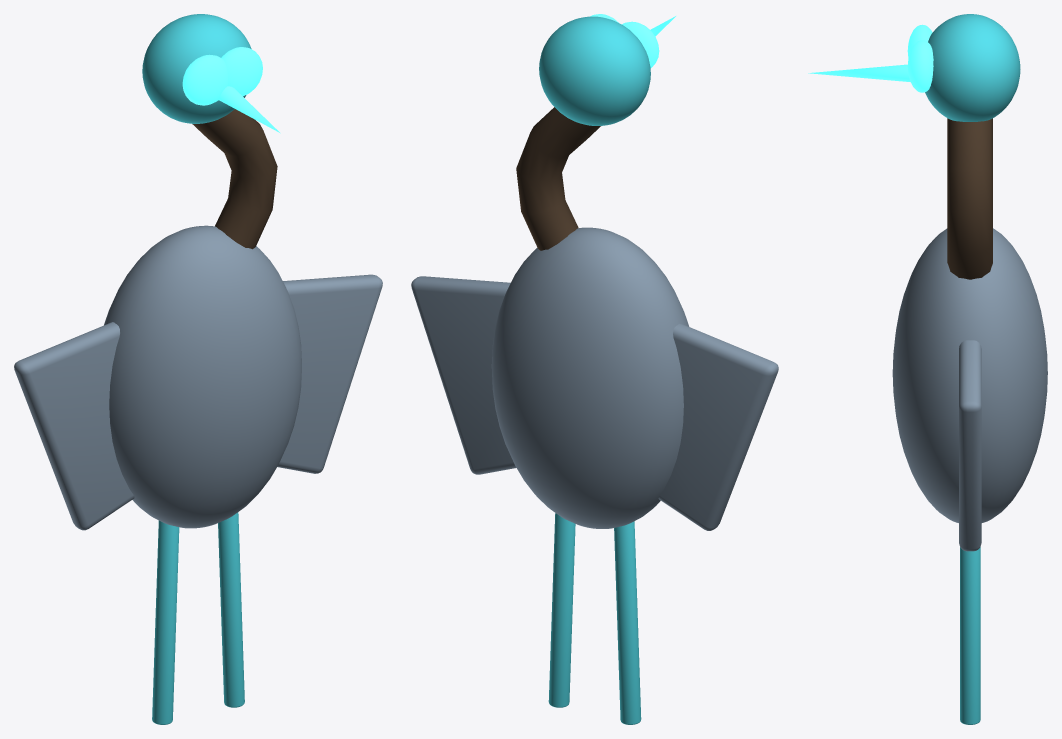
File: avian_v6.glb
The picture shows the model from 3 angles, left to right: view 1: azimuth 30°, elevation 25°; view 2: azimuth 150°, elevation 25°; view 3: azimuth 270°, elevation 25°; orthographic projection.
Visible parts, largest first — view 1: CRANE_BODY_PRIMARY, CRANE_WING_PRIMARY, CRANE_WING_PRIMARY.001, CRANE_HEAD_ACCENT, CRANE_NECK_SECONDARY, CRANE_LEG_ACCENT, CRANE_LEG_ACCENT.001, EYE_EMISSIVE, EYE_EMISSIVE.001, CRANE_BEAK_EMISSIVE; view 2: CRANE_BODY_PRIMARY, CRANE_WING_PRIMARY, CRANE_WING_PRIMARY.001, CRANE_HEAD_ACCENT, CRANE_NECK_SECONDARY, CRANE_LEG_ACCENT, CRANE_LEG_ACCENT.001, EYE_EMISSIVE; view 3: CRANE_BODY_PRIMARY, CRANE_HEAD_ACCENT, CRANE_NECK_SECONDARY, CRANE_WING_PRIMARY.001, CRANE_LEG_ACCENT.001, EYE_EMISSIVE.001, CRANE_BEAK_EMISSIVE.
Boxes of the visible parts, bbox=[...] form: CRANE_BODY_PRIMARY: bbox=[104, 225, 301, 528]; CRANE_WING_PRIMARY: bbox=[14, 322, 134, 530]; CRANE_WING_PRIMARY.001: bbox=[277, 274, 382, 473]; CRANE_HEAD_ACCENT: bbox=[142, 14, 251, 123]; CRANE_NECK_SECONDARY: bbox=[192, 109, 277, 249]; CRANE_LEG_ACCENT: bbox=[152, 520, 179, 724]; CRANE_LEG_ACCENT.001: bbox=[218, 512, 244, 707]; EYE_EMISSIVE: bbox=[182, 54, 227, 105]; EYE_EMISSIVE.001: bbox=[221, 47, 262, 96]; CRANE_BEAK_EMISSIVE: bbox=[219, 86, 280, 133]; CRANE_BODY_PRIMARY: bbox=[491, 227, 689, 528]; CRANE_WING_PRIMARY: bbox=[658, 323, 778, 530]; CRANE_WING_PRIMARY.001: bbox=[411, 276, 516, 474]; CRANE_HEAD_ACCENT: bbox=[539, 16, 650, 125]; CRANE_NECK_SECONDARY: bbox=[516, 107, 600, 250]; CRANE_LEG_ACCENT: bbox=[614, 521, 641, 724]; CRANE_LEG_ACCENT.001: bbox=[548, 513, 575, 707]; EYE_EMISSIVE: bbox=[622, 21, 659, 67]; CRANE_BODY_PRIMARY: bbox=[892, 228, 1047, 522]; CRANE_HEAD_ACCENT: bbox=[925, 14, 1020, 121]; CRANE_NECK_SECONDARY: bbox=[947, 118, 992, 279]; CRANE_WING_PRIMARY.001: bbox=[959, 340, 981, 551]; CRANE_LEG_ACCENT.001: bbox=[960, 547, 980, 724]; EYE_EMISSIVE.001: bbox=[907, 40, 933, 92]; CRANE_BEAK_EMISSIVE: bbox=[808, 64, 910, 81].
Bounding box in the file's own units: 1.42 × 2.58 × 0.8229.
